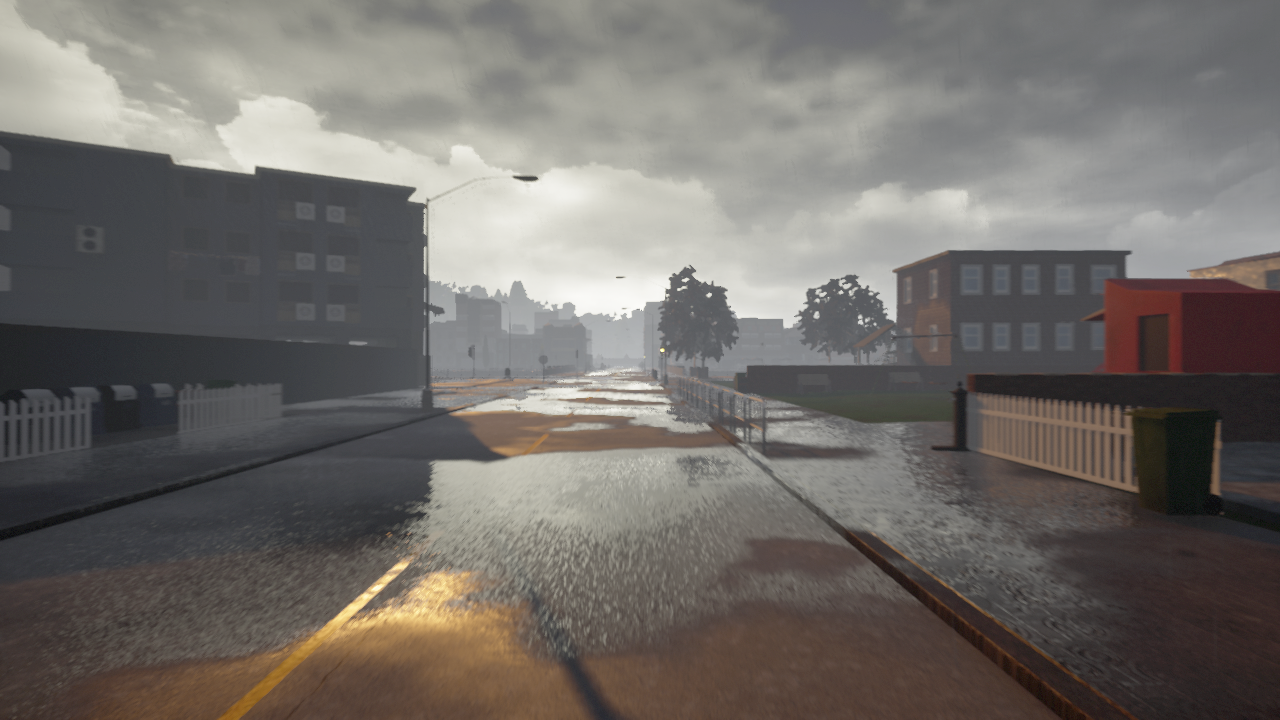yellow: (659, 344, 665, 357)
